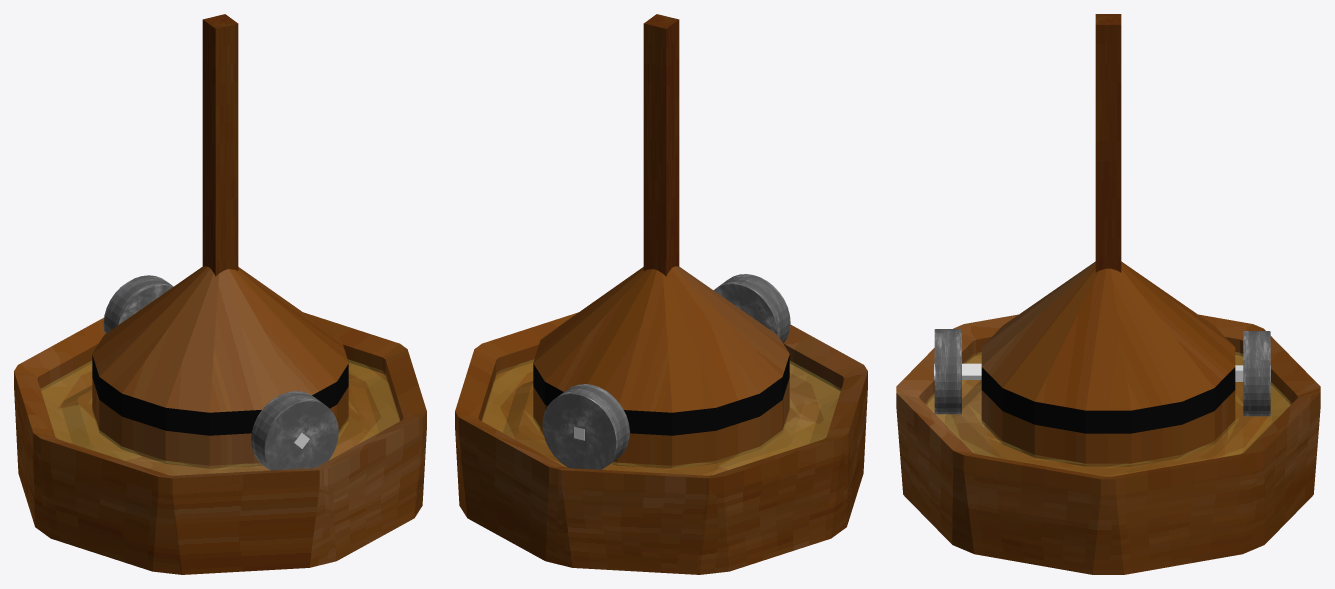
File: RiceMill.glb
3 renders of one model, left to right at view 1: azimuth 30°, elevation 25°; view 2: azimuth 150°, elevation 25°; view 3: azimuth 270°, elevation 25°, orthographic.
Visible parts, largest first — view 1: Cube, Cube.001, Cylinder, Plane.002, Cube.002; view 2: Cube, Cube.001, Cube.002, Plane.002, Cylinder; view 3: Cube, Cube.001, Cylinder, Cube.002, Plane.002.
Boxes of the visible parts, <box> form: Cube: <box>14,266,426,574</box>; Cube.001: <box>202,14,238,276</box>; Cylinder: <box>251,391,338,470</box>; Plane.002: <box>41,360,399,474</box>; Cube.002: <box>103,275,173,334</box>; Cube: <box>455,266,867,574</box>; Cube.001: <box>643,14,679,276</box>; Cube.002: <box>542,384,629,469</box>; Plane.002: <box>482,360,840,470</box>; Cylinder: <box>713,274,790,343</box>; Cube: <box>896,261,1320,574</box>; Cube.001: <box>1095,14,1121,272</box>; Cylinder: <box>934,329,981,414</box>; Cube.002: <box>1235,331,1270,416</box>; Plane.002: <box>927,352,1289,468</box>.
Size of the model in its own units: 2.48 by 3.02 by 2.48.
5 materials, 3 textured.
